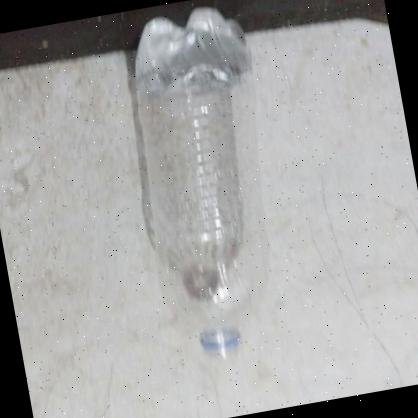bottle: (97, 0, 308, 381)
